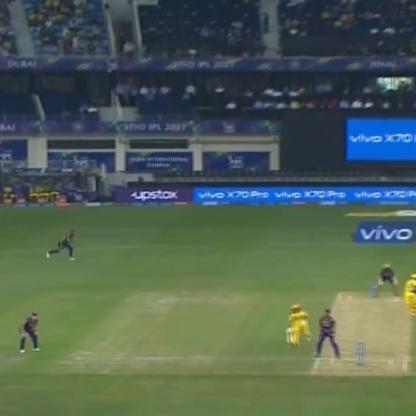pitch: (312, 294, 408, 371)
